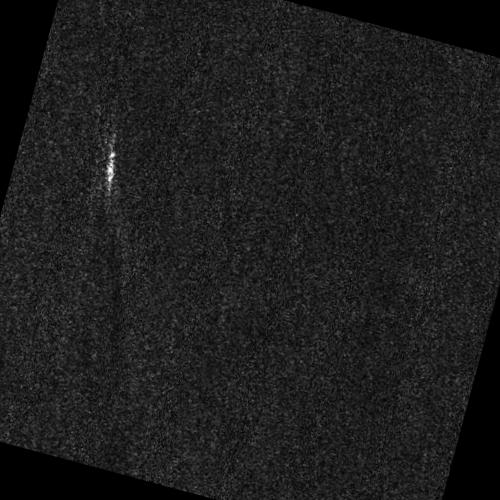ship: (107, 147, 116, 195)
